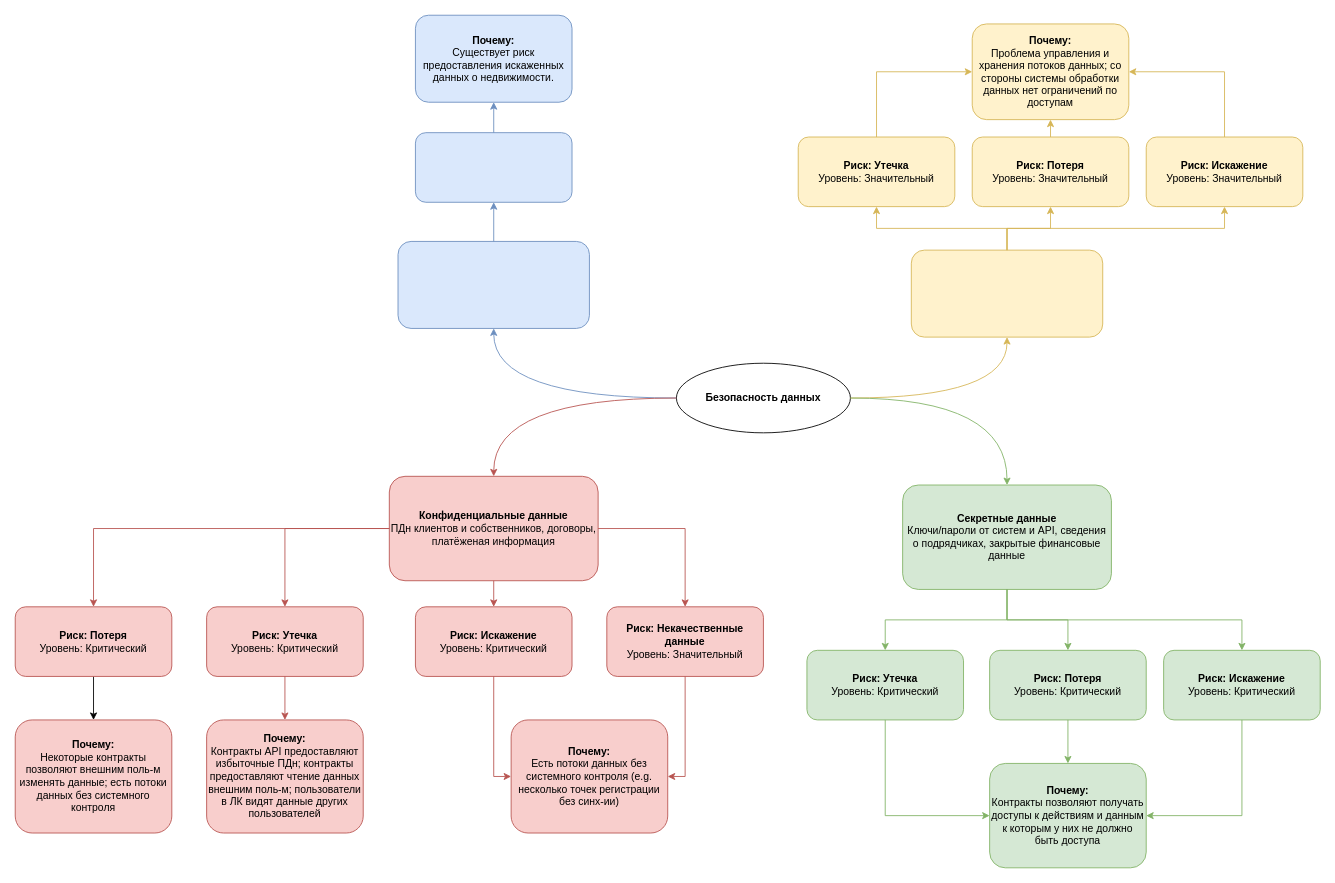
Some shapes in this 1335 by 883 pixel diagram are drawn without their labels. Each missing label, with the centre of its shape:
Внутренние данные Отчеты, BI, артефакты операционной деятельности: point (1006, 293)
Публичные данные Информация о недвижимости с онлайн-витрины: point (493, 284)
Риск: Искажение Уровень: Незначительный: point (493, 167)
